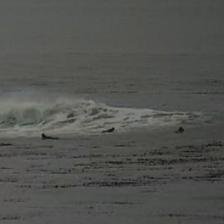surfer: (40, 133, 60, 141), (100, 127, 114, 134), (175, 126, 185, 134)
